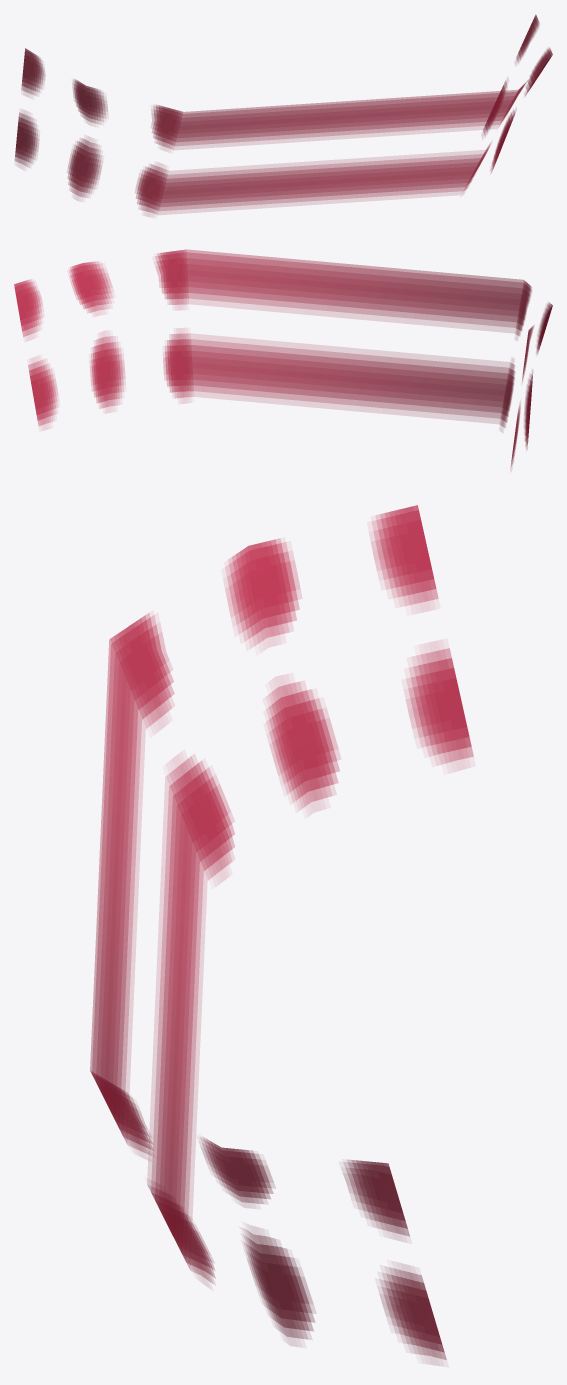
3 renders of one model, top to bottom at view 1: azimuth 30°, elevation 25°; view 2: azimuth 150°, elevation 25°; view 3: azimuth 270°, elevation 25°, orthographic. The views are drawn at different scales.
Parts seen in each view (by area): view 1: ef_496; view 2: ef_496; view 3: ef_496.
Boxes of the visible parts, bbox=[...] form: ef_496: bbox=[15, 15, 552, 216]; ef_496: bbox=[14, 249, 552, 470]; ef_496: bbox=[90, 505, 473, 1365].
Size of the model in its own units: 0.6508 by 0.26 by 0.2166.
Materials: 1 (1 with a texture image).
